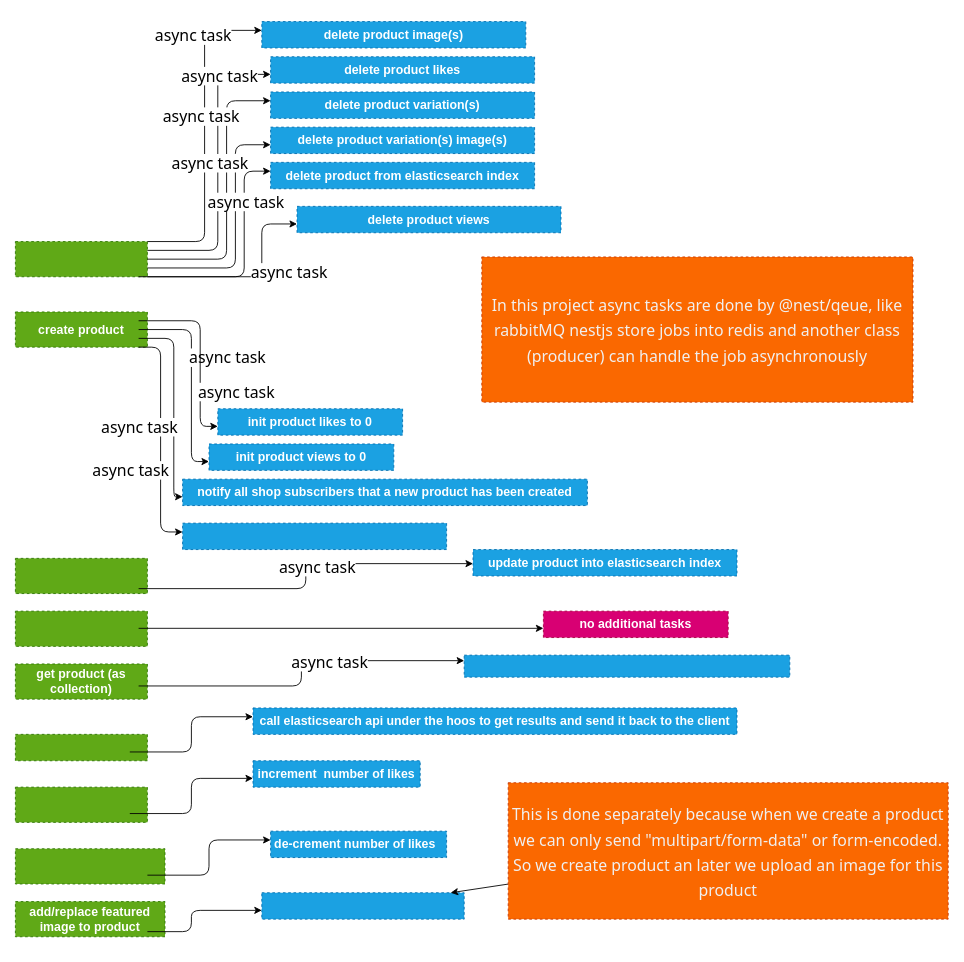
Some shapes in this 964 by 962 pixel diagram are drawn without their labels. Here are the shapes that lost their labels. From the top down, the box of each, then its label:
(15, 241, 147, 277): delete product
(182, 522, 447, 550): add product into elasticsearch index
(15, 557, 147, 594): update product
(15, 610, 147, 646): get product (as item)
(463, 654, 790, 677): increment the number of views of the product
(15, 733, 147, 761): search
(15, 786, 147, 822): a user like a product
(15, 848, 165, 884): a user de-like a product
(261, 892, 464, 919): update image link into product
